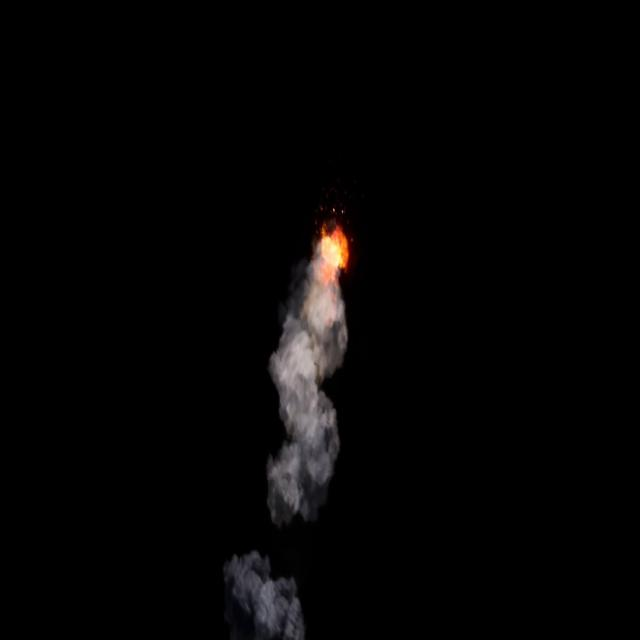fire: (320, 222, 351, 268)
smoke: (265, 253, 349, 532), (223, 544, 308, 639)
